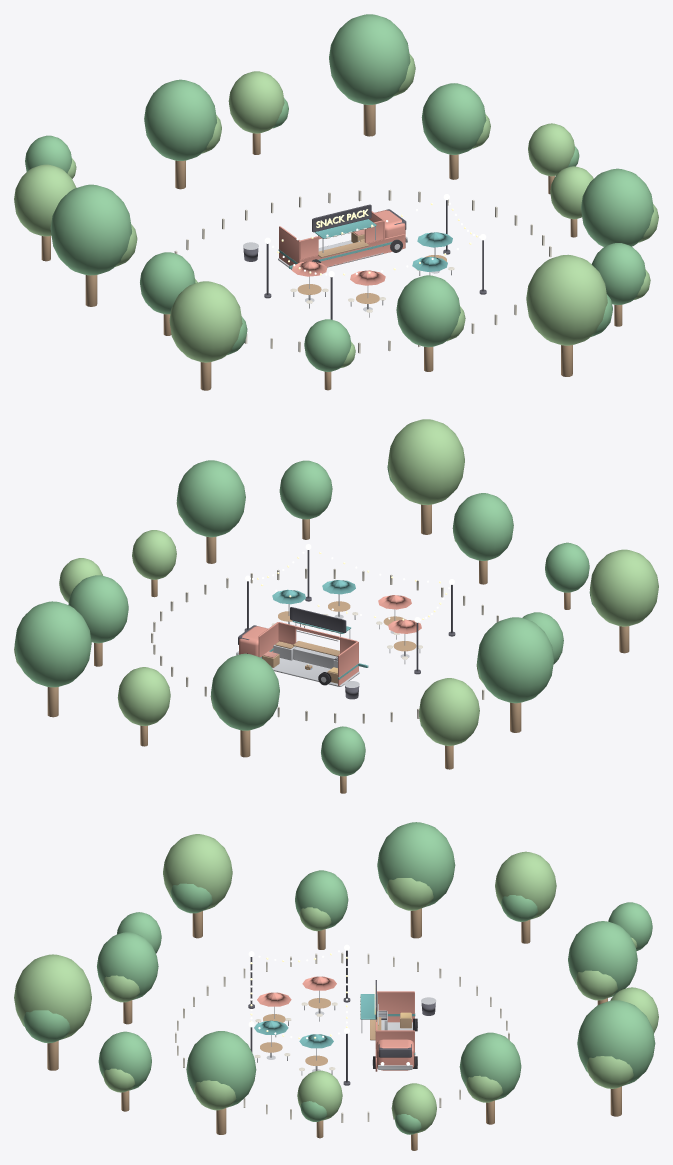
File: world.glb
The picture shows the model from 3 angles, top to bottom: view 1: azimuth 30°, elevation 25°; view 2: azimuth 150°, elevation 25°; view 3: azimuth 270°, elevation 25°; orthographic projection. The views are drawn at different scales.
Visible parts, largest first — view 1: plaza_trees, truck_front, plaza_tables, truck_sign, plaza_fence, truck_cab, truck_left, plaza_lamps; view 2: plaza_trees, plaza_tables, truck_front, plaza_fence, truck_counters, truck_sign, truck_cab, truck_left, plaza_lamps; view 3: plaza_trees, plaza_tables, truck_cab, truck_left, truck_front, plaza_fence.
Part boxes in pixels (box(x1,y1,x2,y2)): plaza_trees: box(14, 14, 658, 390); truck_front: box(278, 219, 405, 269); plaza_tables: box(290, 232, 454, 317); truck_sign: box(312, 204, 371, 236); plaza_fence: box(174, 189, 551, 353); truck_cab: box(312, 209, 407, 262); truck_left: box(278, 226, 300, 265); plaza_lamps: box(264, 200, 486, 319); plaza_trees: box(14, 419, 658, 793); plaza_tables: box(271, 580, 422, 663); truck_front: box(272, 620, 368, 686); plaza_fence: box(151, 568, 498, 723); truck_counters: box(273, 641, 337, 668); truck_sign: box(290, 607, 346, 636); truck_cab: box(236, 625, 331, 685); truck_left: box(338, 641, 358, 685); plaza_lamps: box(244, 550, 455, 674); plaza_trees: box(14, 822, 658, 1150); plaza_tables: box(254, 976, 337, 1075); truck_cab: box(372, 1018, 417, 1070); truck_left: box(377, 991, 415, 1022); truck_front: box(360, 992, 412, 1071); plaza_fence: box(175, 952, 509, 1122).
Size of what is drawn, in the model's own units: 37.63 by 8.59 by 42.6.
